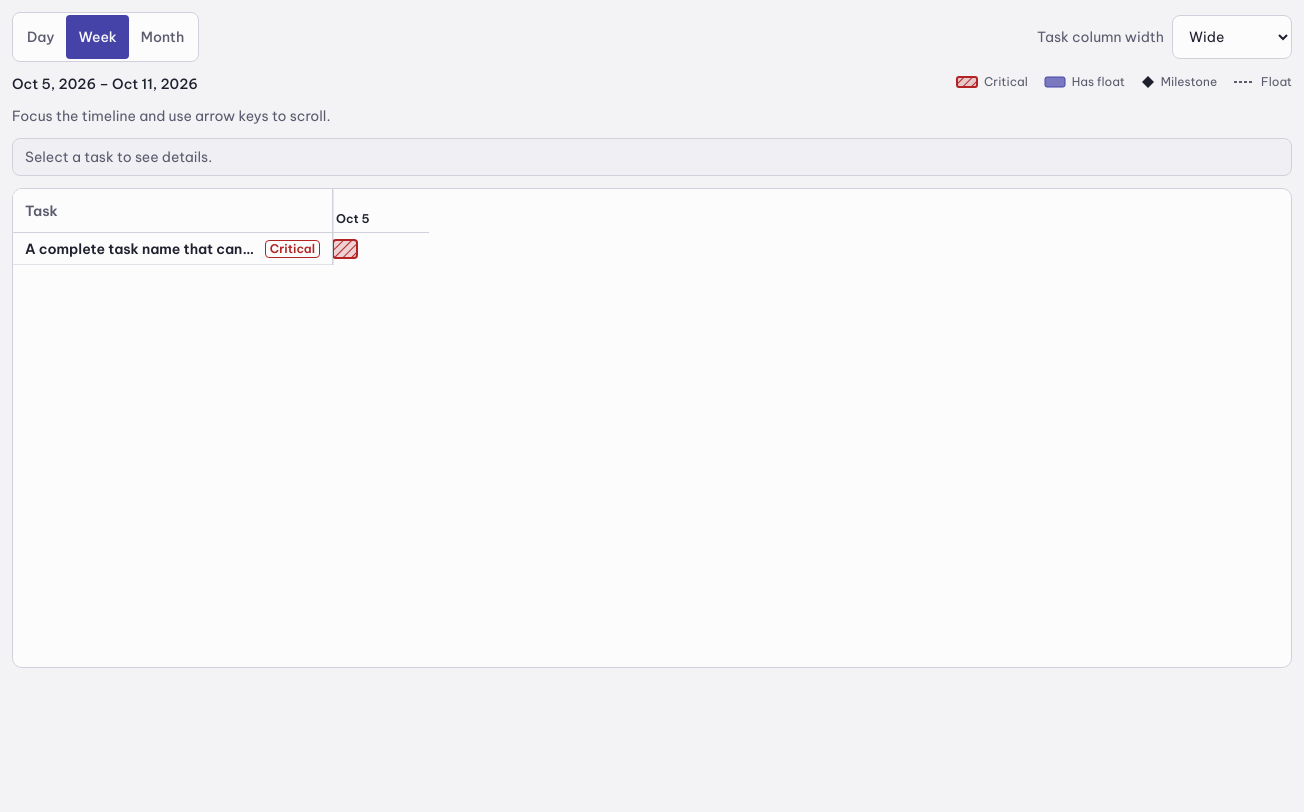
Scenario: GanttChart › names the keyboard scroll region and reveals full task details on focus or selection
Focus the button with aria-label "A complete task name that cannot fit into the task column bu" at (172,248), box [13, 233, 332, 264]
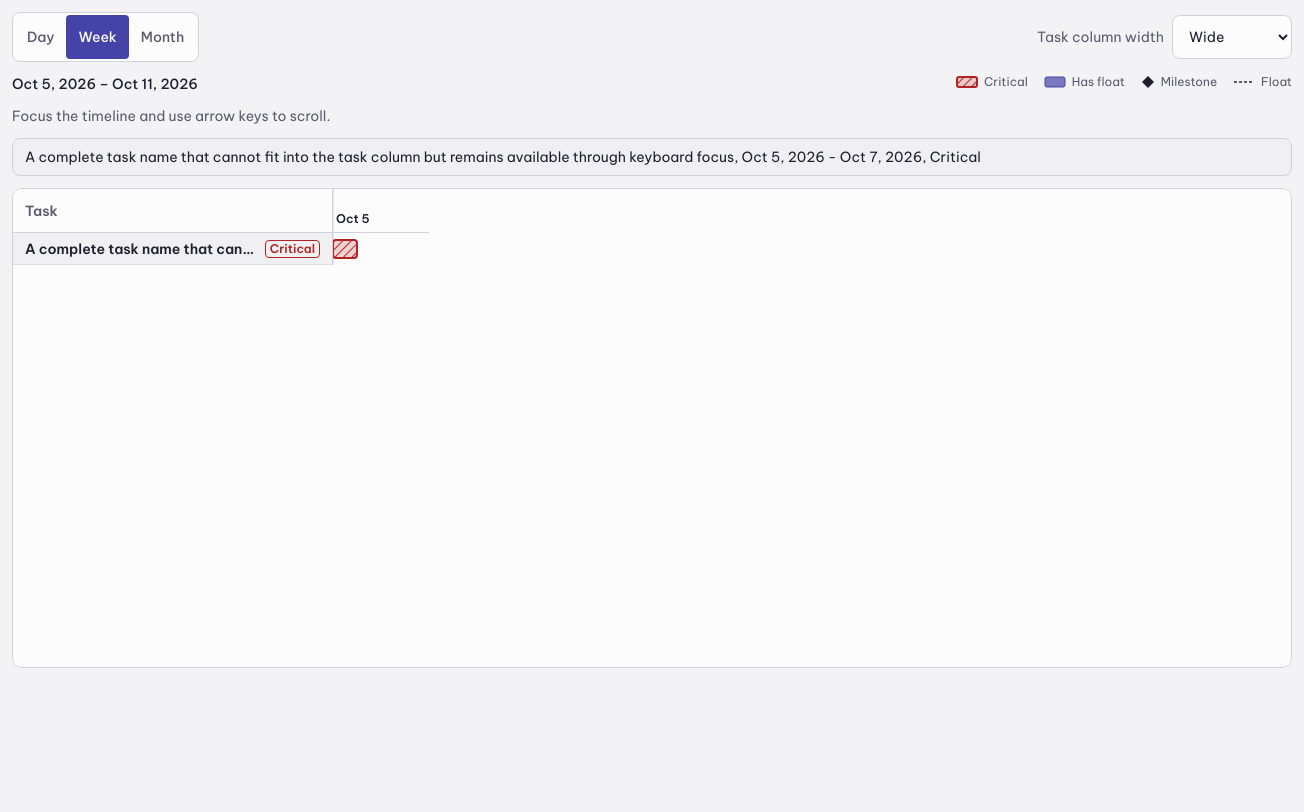
Now the element named "Task details" shows "A complete task name that cannot fit into the task column but remains available through keyboard focus", box [25, 148, 981, 166]
Now the element named "Task details" shows "Oct 5, 2026 - Oct 7, 2026", box [25, 148, 981, 166]
